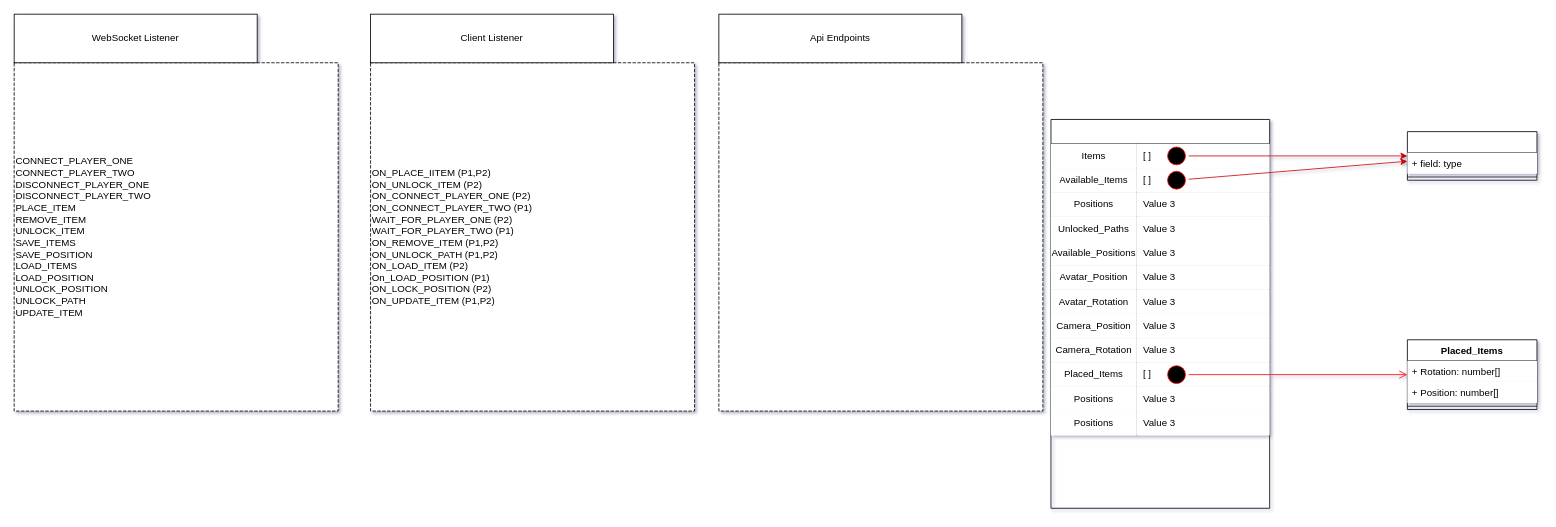
The diagram is 1556 pixels wide and 527 high, and some of its shapes have lost their labels. Each missing label, with the box of its shape:
DB: (1050, 119, 1270, 508)
Item: (1407, 131, 1537, 180)
